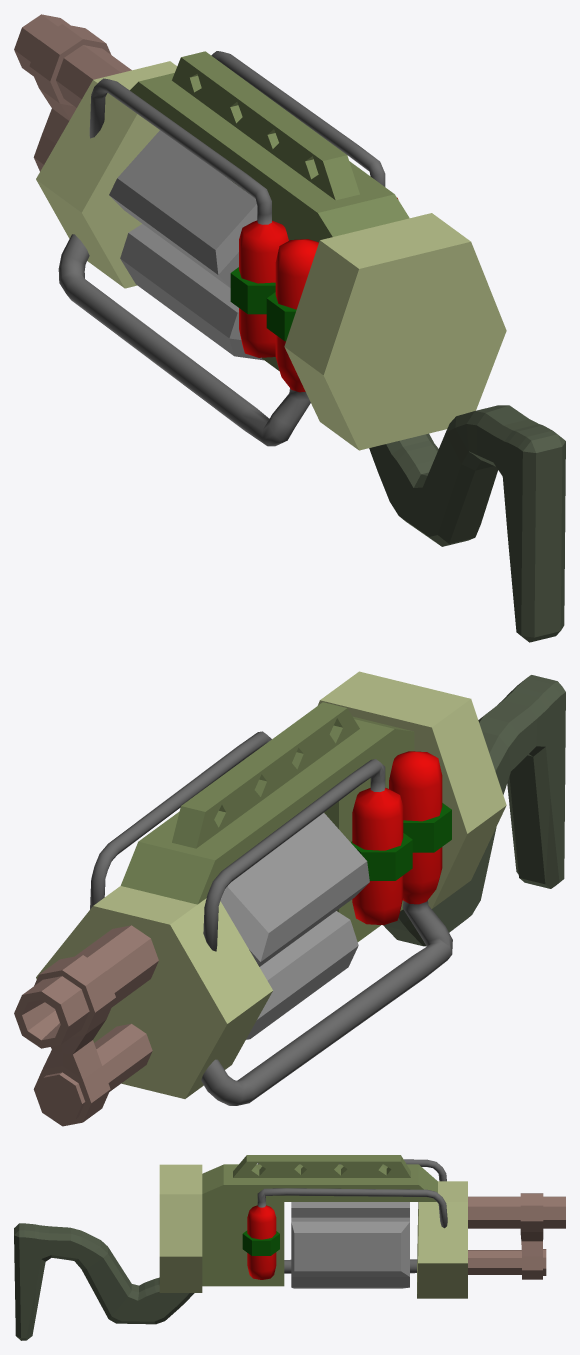
The model's file is TauLaserGun.fbx.
The picture shows the model from 3 angles, top to bottom: view 1: azimuth 30°, elevation 25°; view 2: azimuth 150°, elevation 25°; view 3: azimuth 270°, elevation 25°; orthographic projection. The views are drawn at different scales.
Parts seen in each view (by area): view 1: GausGUn, GausCylinder; view 2: GausGUn, GausCylinder; view 3: GausGUn, GausCylinder.
Part boxes in pixels (x1=…): GausGUn: x1=14, y1=14, x2=565, y2=642; GausCylinder: x1=109, y1=130, x2=263, y2=360; GausGUn: x1=14, y1=671, x2=565, y2=1126; GausCylinder: x1=220, y1=813, x2=369, y2=1039; GausGUn: x1=14, y1=1155, x2=565, y2=1340; GausCylinder: x1=291, y1=1202, x2=409, y2=1288.
Size of the model in its own units: 270 by 444 by 1240.
